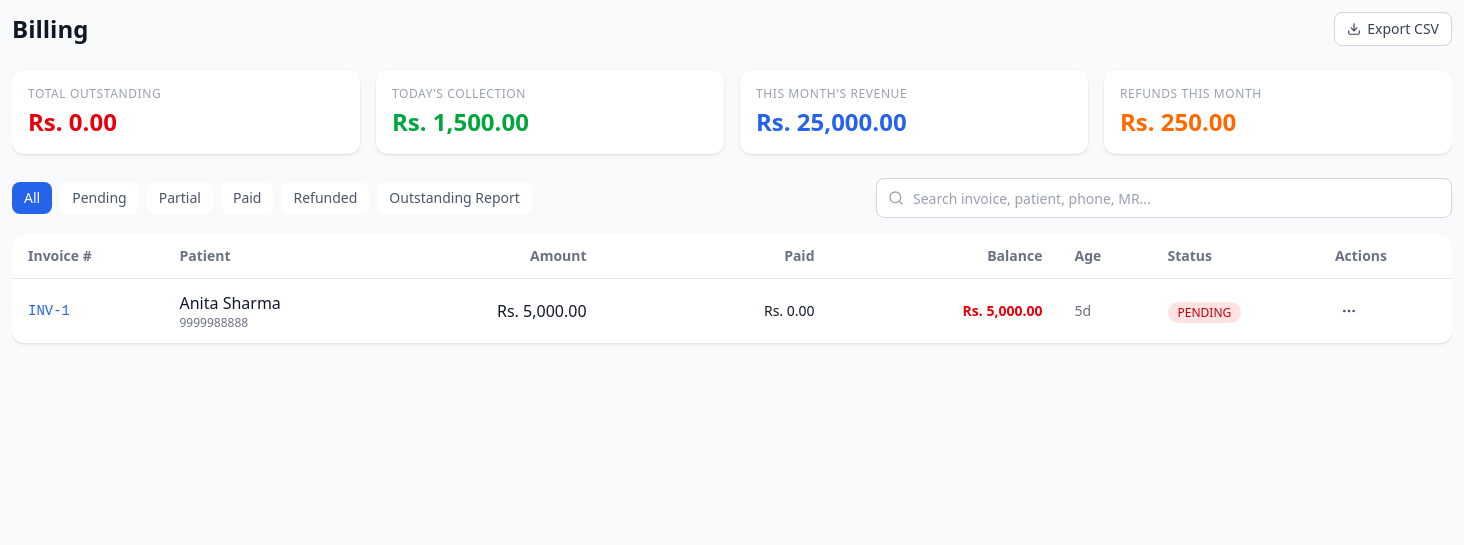
it: BillingPage — global billing dashboard › opens the actions menu for staff and renders Record Payment / Apply Discount / Print Invoice
The width and height of the screenshot is (1464, 545).
Expected: the link "INV-1" is shown, [28,303,70,319]
What coordinates should you click on to do the following:
click the button named "Actions menu for invoice INV-1"
I would click on:
 (1349, 311)
Its box is [1335,297,1363,325].
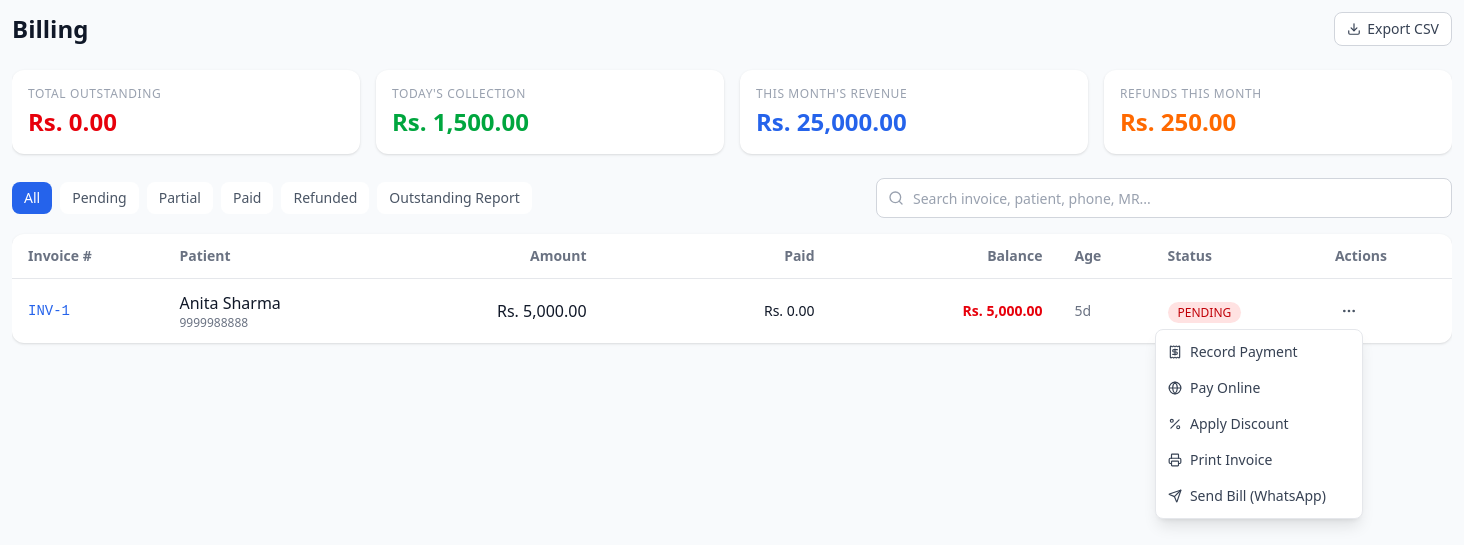
Expected: the button "Record Payment" is shown, [1156,334,1362,370]
Expected: the button "Apply Discount" is shown, [1156,406,1362,442]
Expected: the link "Print Invoice" is shown, [1168,450,1272,469]
